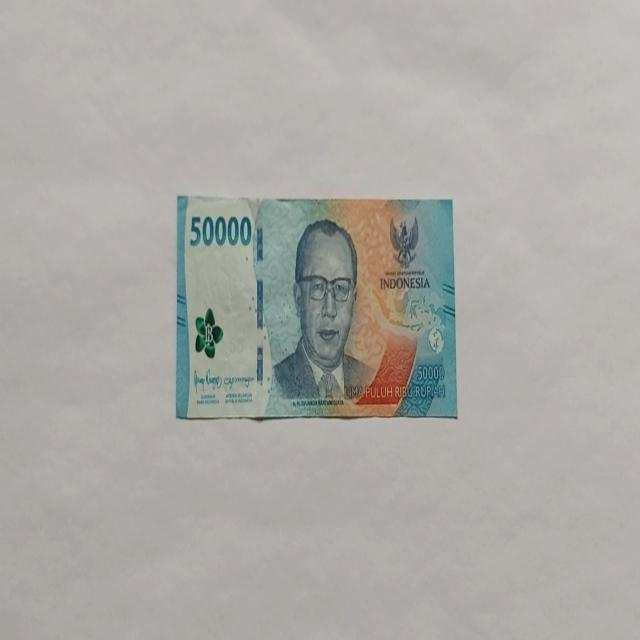lima puluh ribu rupiah: (175, 192, 457, 422), (264, 216, 380, 414)
